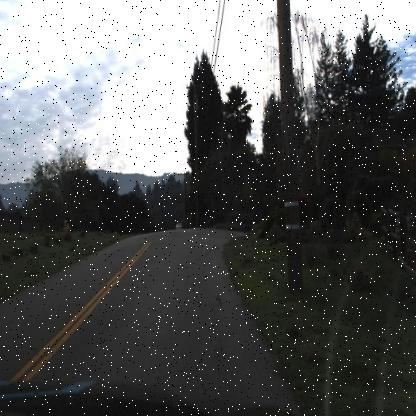car: (172, 217, 186, 235), (173, 219, 182, 232)
